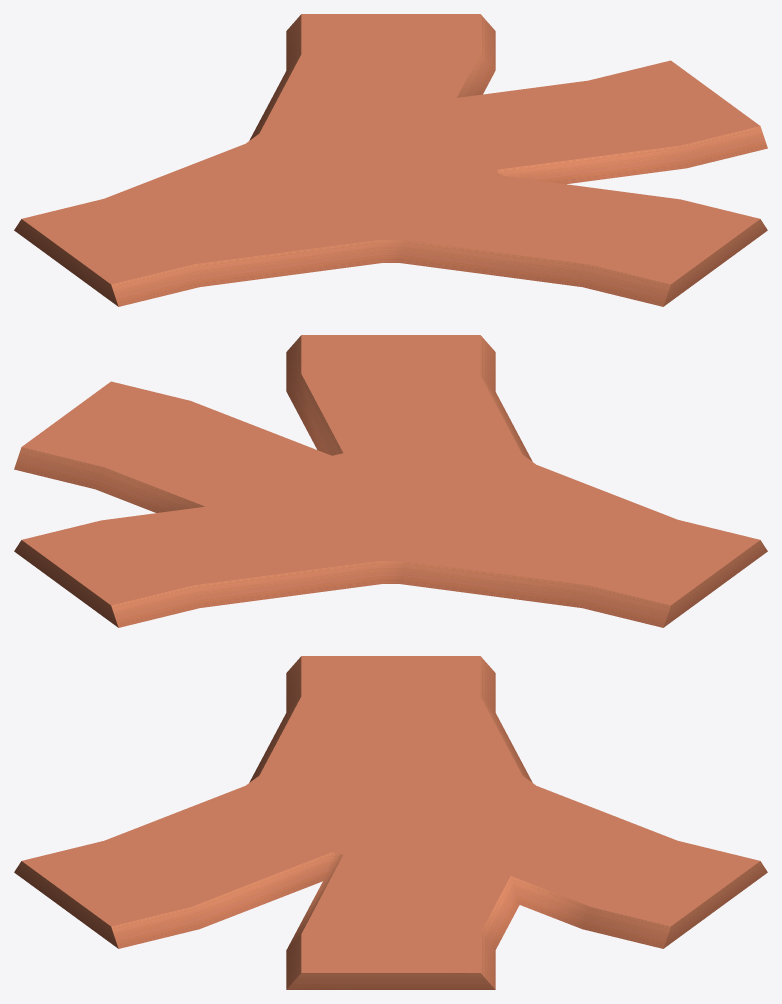
The model's file is path-intersection-d.glb.
The picture shows the model from 3 angles, top to bottom: view 1: azimuth 30°, elevation 25°; view 2: azimuth 150°, elevation 25°; view 3: azimuth 270°, elevation 25°; orthographic projection.
Visible parts, largest first — view 1: path-intersectionD; view 2: path-intersectionD; view 3: path-intersectionD.
Part boxes in pixels (x1,y1,x2,y2): path-intersectionD: (14, 14, 767, 306); path-intersectionD: (14, 335, 767, 627); path-intersectionD: (14, 656, 767, 989).
Size of the model in its own units: 1 by 0.025 by 1.01.
Materials: 1 (1 with a texture image).
